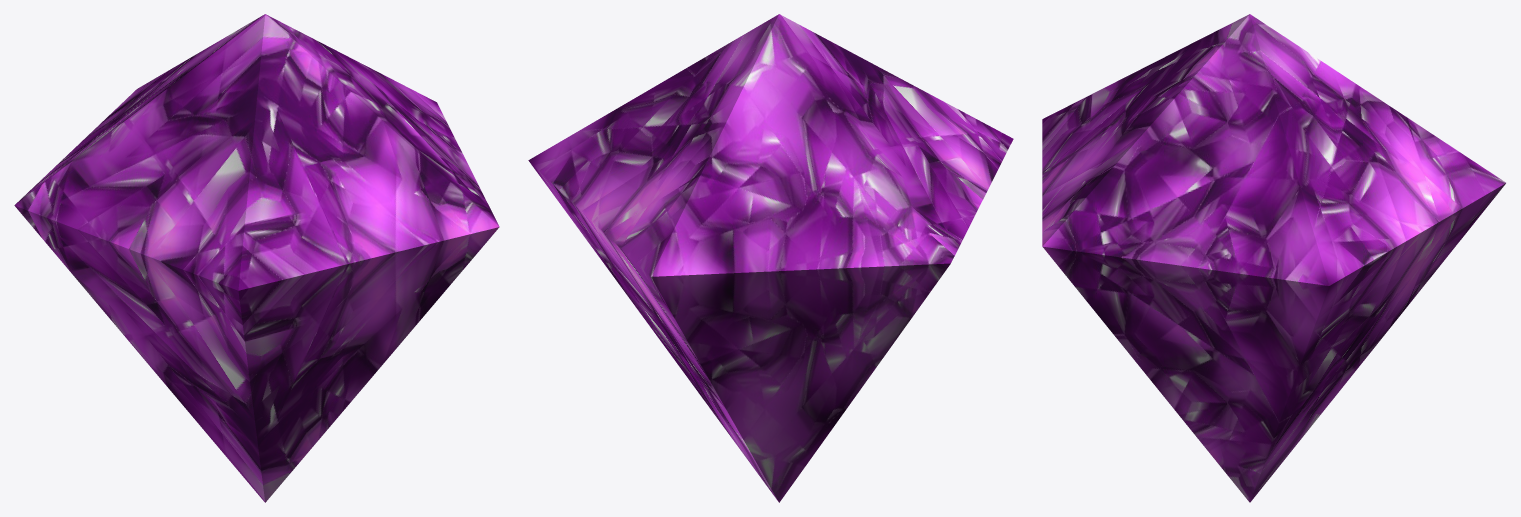
Rendered from Boss - Crystal.FBX.
The picture shows the model from 3 angles, left to right: view 1: azimuth 30°, elevation 25°; view 2: azimuth 150°, elevation 25°; view 3: azimuth 270°, elevation 25°; orthographic projection.
Parts seen in each view (by area): view 1: Sphere001; view 2: Sphere001; view 3: Sphere001.
Boxes of the visible parts, x1,y1,x2,y2 form: Sphere001: [14, 14, 499, 502]; Sphere001: [528, 14, 1013, 502]; Sphere001: [1042, 14, 1505, 502].
Size of the model in its own units: 150 by 142 by 165.
Materials: 1 (1 with a texture image).
